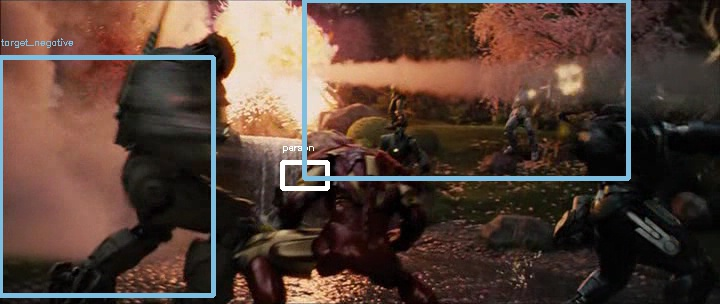person: (339, 140, 381, 177), (338, 140, 380, 177), (340, 140, 382, 177), (339, 139, 381, 176), (339, 141, 381, 178)
target_negative: (195, 6, 566, 280), (565, 127, 714, 273), (245, 79, 370, 214), (598, 18, 671, 55), (497, 52, 509, 159), (625, 243, 666, 260)
